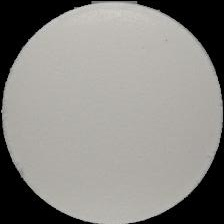68645-150: (0, 0, 224, 224)
